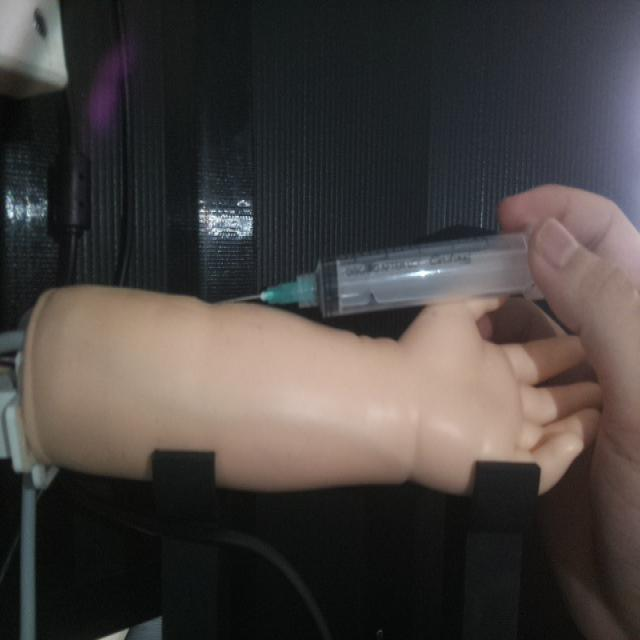Outside: (229, 225, 545, 320)
